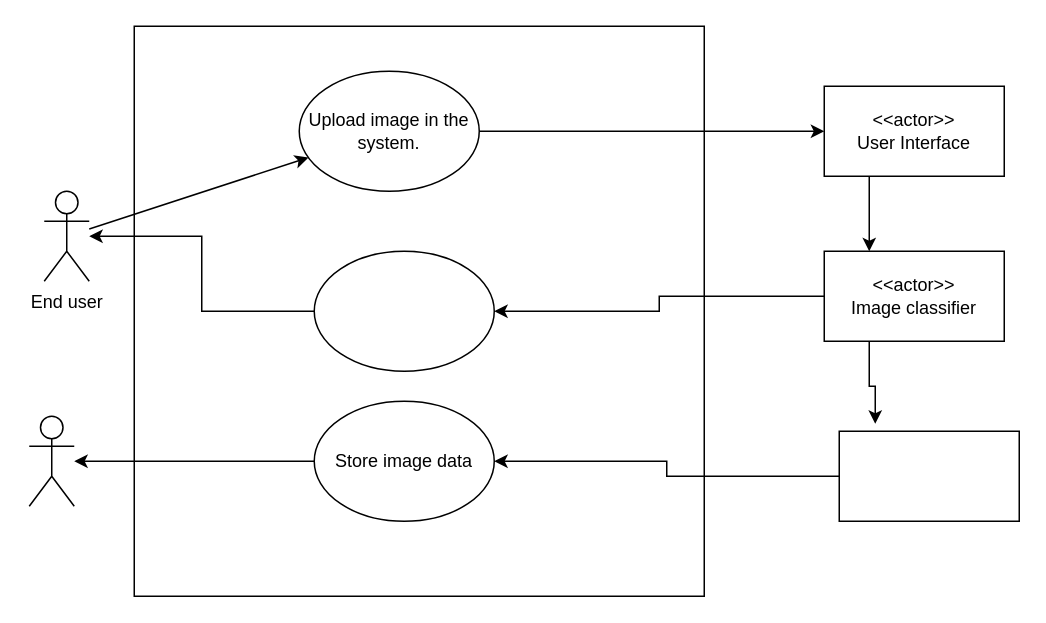
The diagram is 1046 pixels wide and 623 high, and some of its shapes have lost their labels. The shapes that lost their labels are listed below. From the top down, each one's centre as x and y in pixels, then its label:
point 403,310: Send prediction data
point 51,460: Admin
point 928,475: <<actor>> Database
